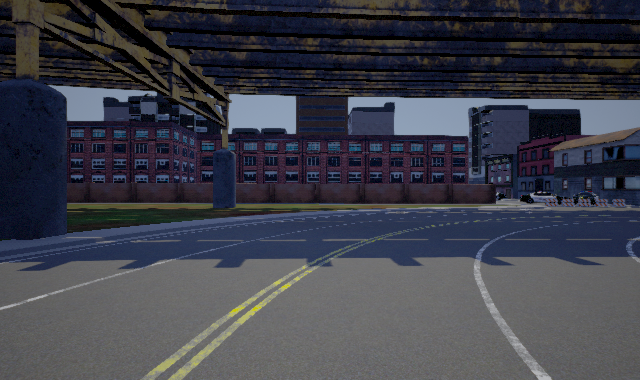vehicle: (520, 191, 570, 205)
